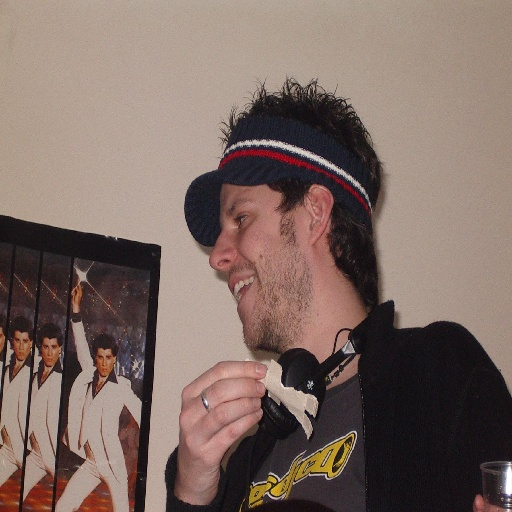hand: (164, 358, 275, 488), (471, 492, 511, 511), (70, 275, 83, 307)
